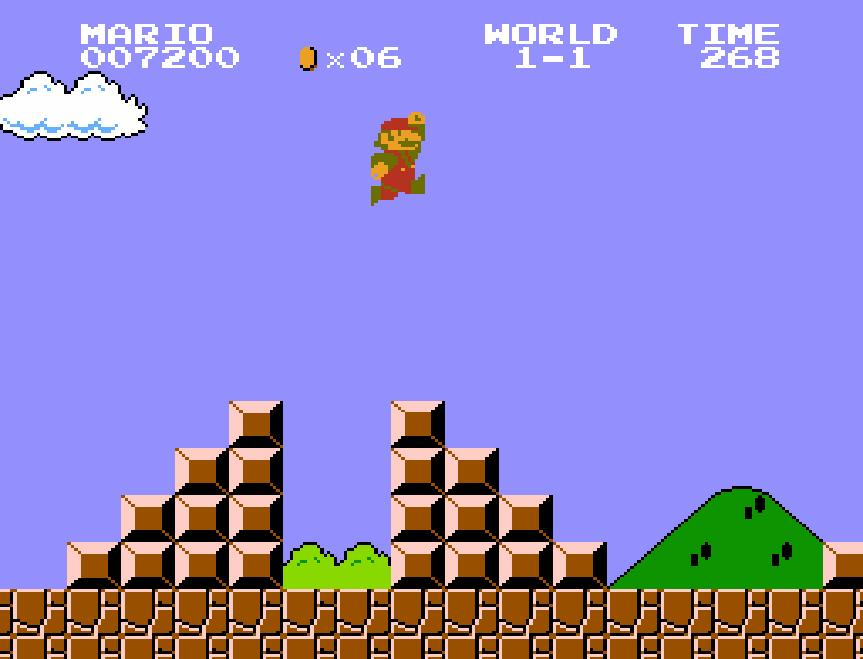big_mario: (368, 109, 426, 207)
